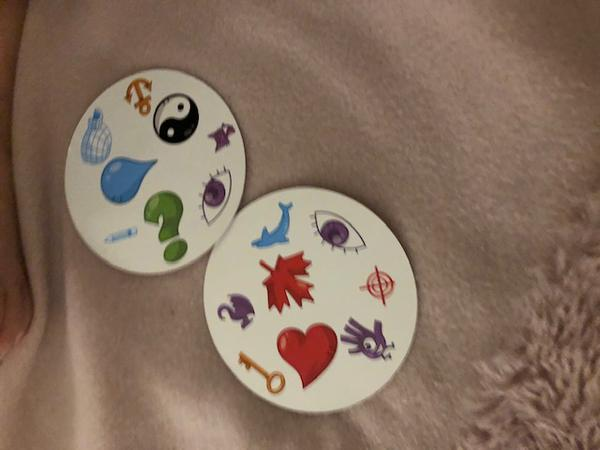ancre: (121, 74, 159, 118)
chat: (205, 120, 237, 152)
cible: (355, 264, 399, 308)
cle: (233, 346, 282, 398)
coeur: (272, 320, 338, 390)
crayon: (96, 217, 143, 254)
dauphin: (247, 196, 299, 253)
dooble: (338, 314, 400, 366)
dragon: (216, 290, 259, 335)
feuille: (255, 250, 317, 316)
goutte: (96, 151, 156, 210)
igloo: (79, 104, 116, 168)
oeuil: (307, 206, 370, 258), (199, 161, 235, 229)
point_interrogation: (142, 184, 192, 269)
ying_yang: (147, 89, 199, 149)
